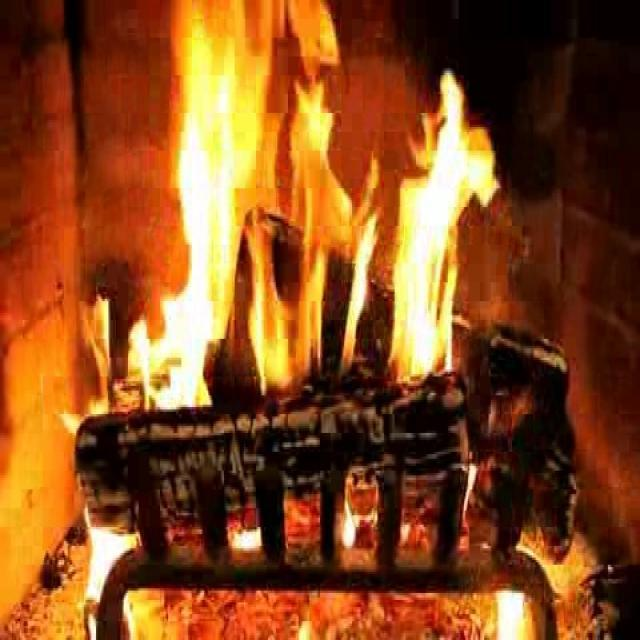Fire: (133, 9, 474, 380)
